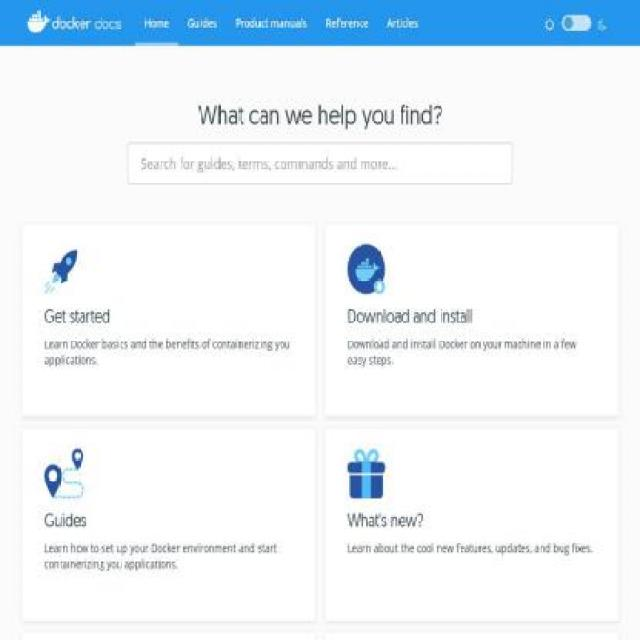button: (21, 223, 316, 415), (324, 223, 619, 415), (21, 428, 316, 620), (324, 428, 619, 620), (17, 0, 135, 42), (226, 0, 317, 46), (316, 0, 378, 46), (178, 0, 227, 46), (378, 0, 427, 46), (21, 632, 316, 639), (324, 632, 619, 639), (136, 0, 178, 46)
field: (127, 142, 513, 184)
